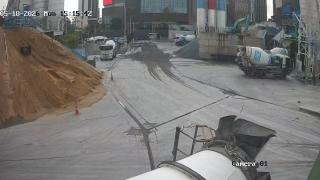cement_mixer_truck: (123, 115, 281, 180), (235, 45, 290, 78), (100, 40, 116, 60), (176, 35, 195, 46), (265, 47, 288, 54), (95, 36, 107, 40), (86, 38, 94, 44), (98, 39, 104, 44)
